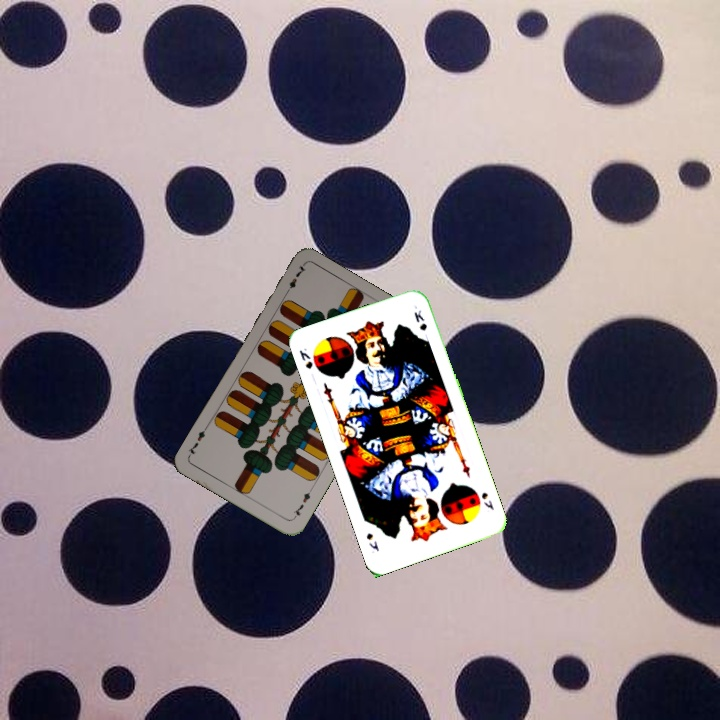E7: (281, 261, 309, 298), (289, 484, 315, 521)
SK: (295, 343, 315, 371), (477, 488, 497, 513)
